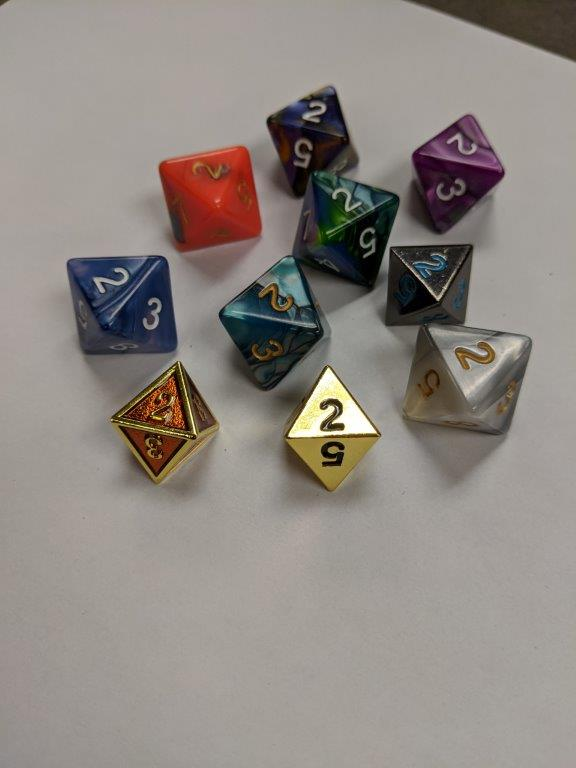d8-2: (401, 317, 527, 435), (222, 254, 324, 393), (110, 358, 217, 483), (279, 367, 380, 495), (295, 171, 397, 290), (411, 112, 507, 236), (65, 254, 179, 358), (159, 145, 263, 254), (268, 81, 357, 192), (386, 243, 470, 327)
